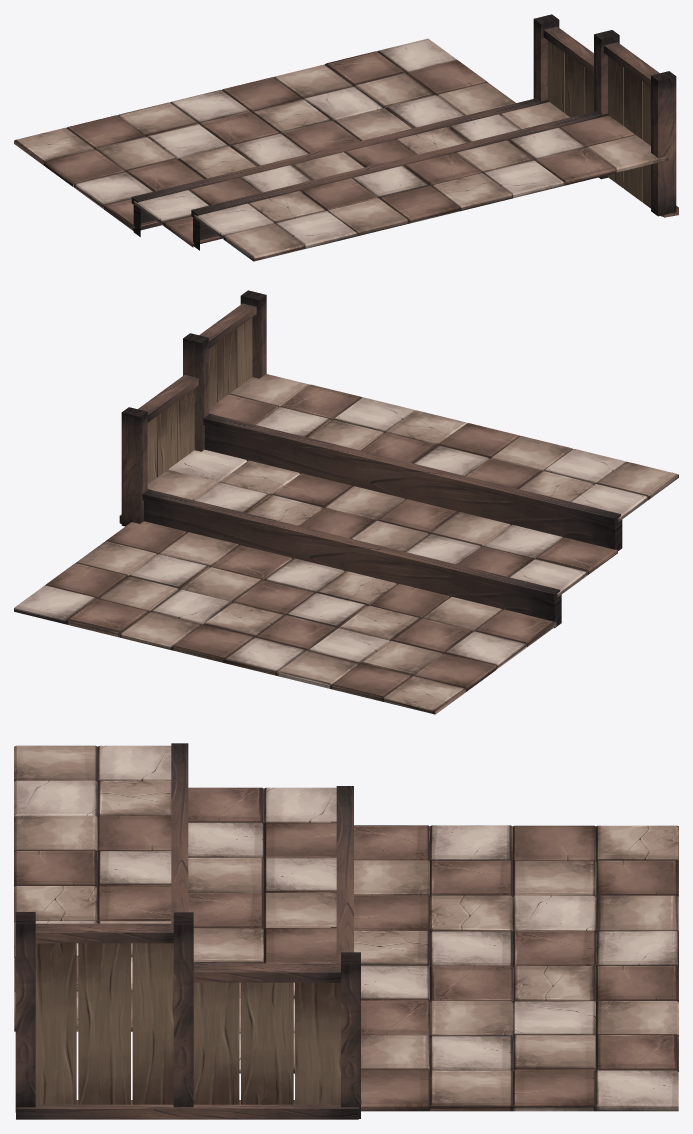
Rendered from Floor_2_Steps_Straight_Walled_Half_End.fbx.
3 renders of one model, top to bottom at view 1: azimuth 30°, elevation 25°; view 2: azimuth 150°, elevation 25°; view 3: azimuth 270°, elevation 25°, orthographic. The views are drawn at different scales.
Visible parts, largest first — view 1: Floor_Stairs_2_Steps, Stair_Wood_Wall20; view 2: Floor_Stairs_2_Steps, Stair_Wood_Wall20; view 3: Floor_Stairs_2_Steps, Stair_Wood_Wall20.
Part boxes in pixels (left/top/right/bottom): Floor_Stairs_2_Steps: left=14, top=38, right=668, bottom=261; Stair_Wood_Wall20: left=533, top=14, right=678, bottom=217; Floor_Stairs_2_Steps: left=14, top=374, right=678, bottom=714; Stair_Wood_Wall20: left=119, top=290, right=266, bottom=526; Floor_Stairs_2_Steps: left=14, top=743, right=678, bottom=1111; Stair_Wood_Wall20: left=15, top=912, right=361, bottom=1119.
Size of the model in its own units: 0.6163 by 0.1952 by 0.6006.
